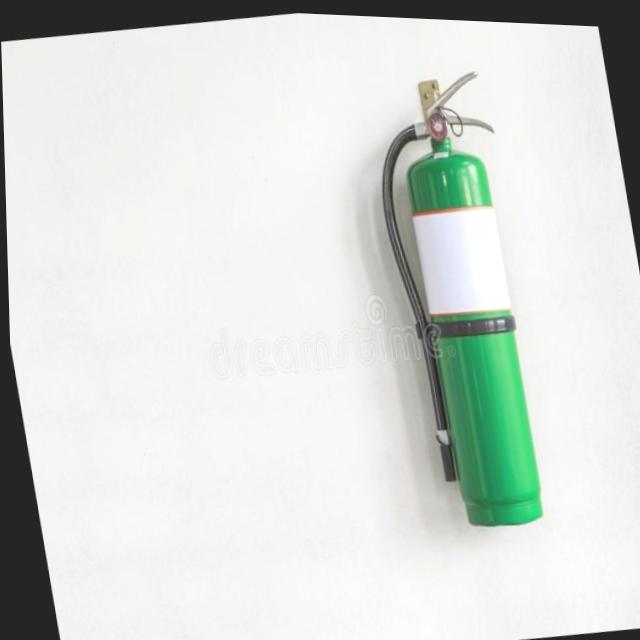FireExtinguisher: (355, 49, 563, 537)
